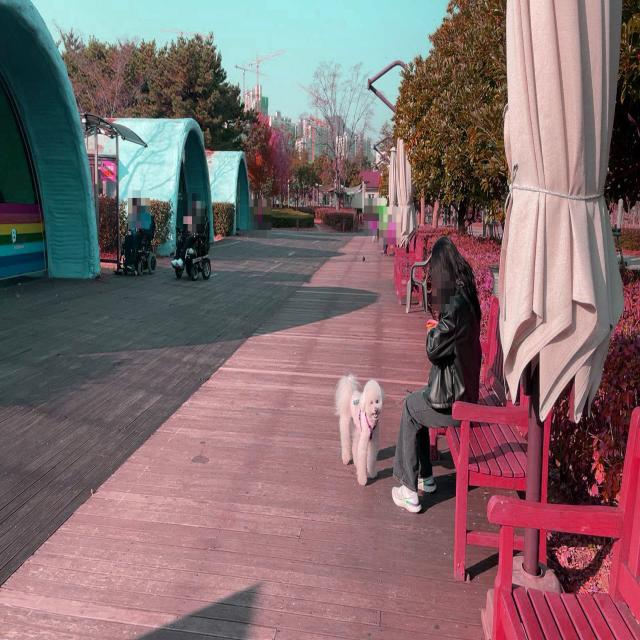Leashed_Dog: (334, 370, 424, 486)
